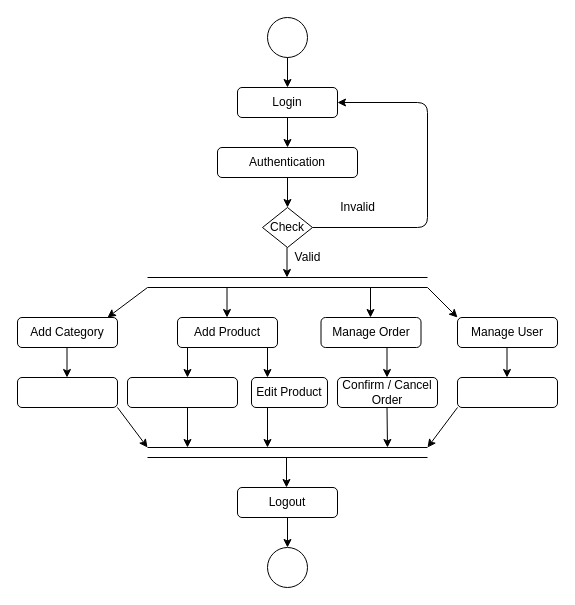
Some shapes in this 575 by 605 pixel diagram are drawn without their labels. Each missing label, with the box of its shape:
Active / Inactive User: (456, 376, 558, 408)
Change Price / Quantity: (126, 376, 238, 408)
Modify Detail: (16, 376, 118, 408)
Start: (266, 16, 308, 58)
Stop: (266, 546, 308, 588)
